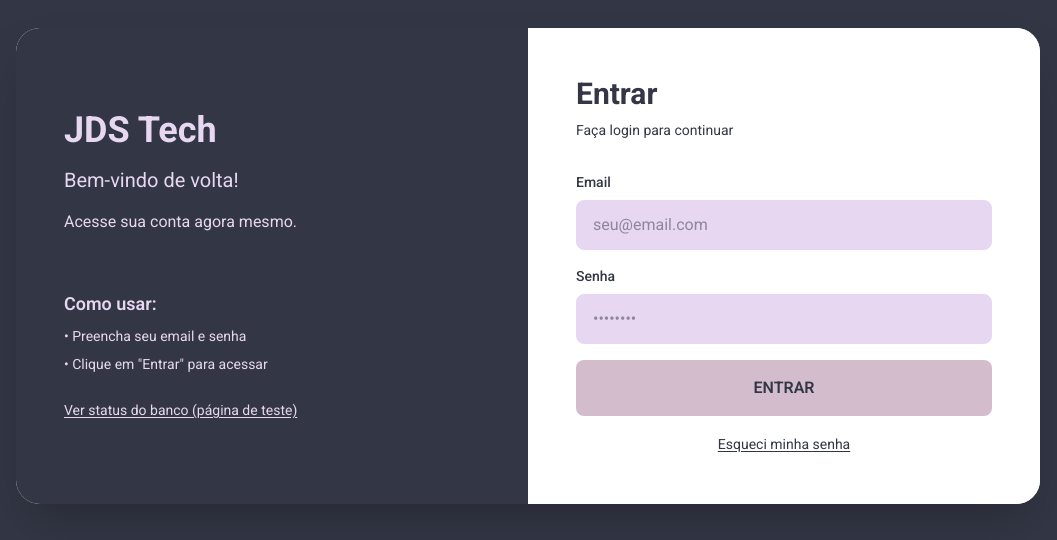
Test case: LoginPage › Validação de Campos › deve mostrar erro quando email é inválido
In the field labelled "Email": (784, 225) [576,200,992,250], type "email@semdominio"
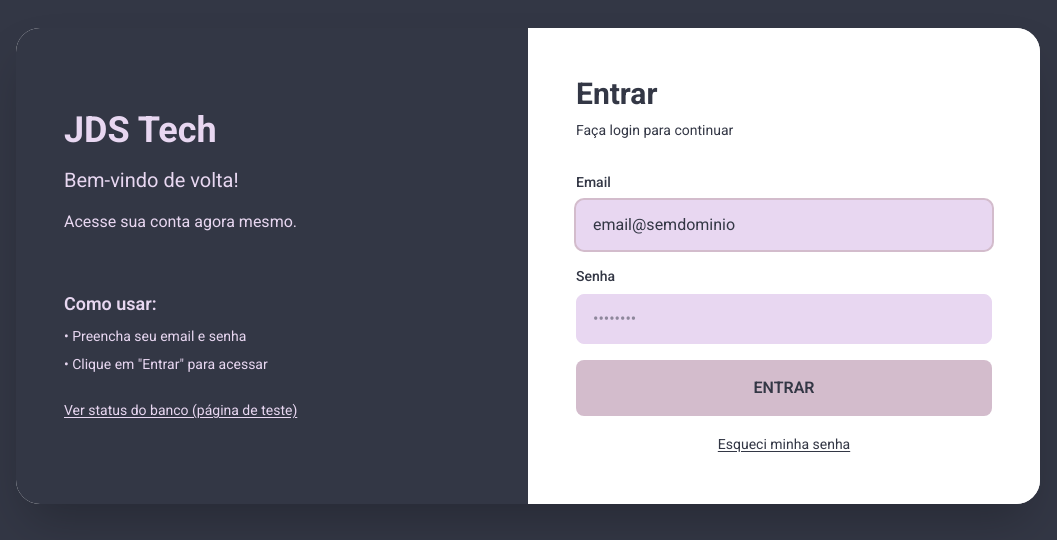
In the password field labelled "Senha": (784, 319) [576,294,992,344], type "senha123"
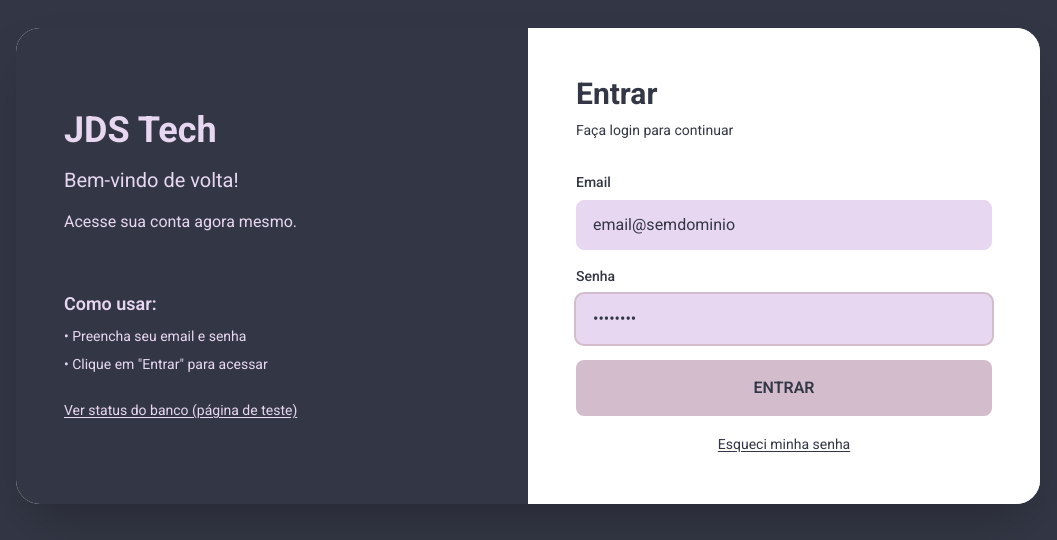
Click the button "ENTRAR": (784, 388) [576,360,992,416]
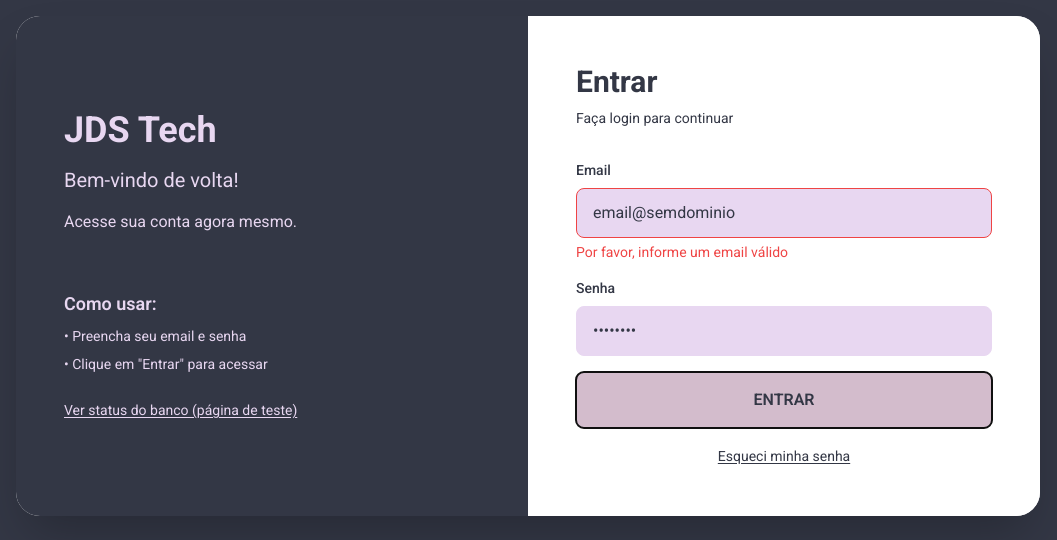
Check: the text "Por favor, informe um email válido" is shown, box [576,244,788,260]
